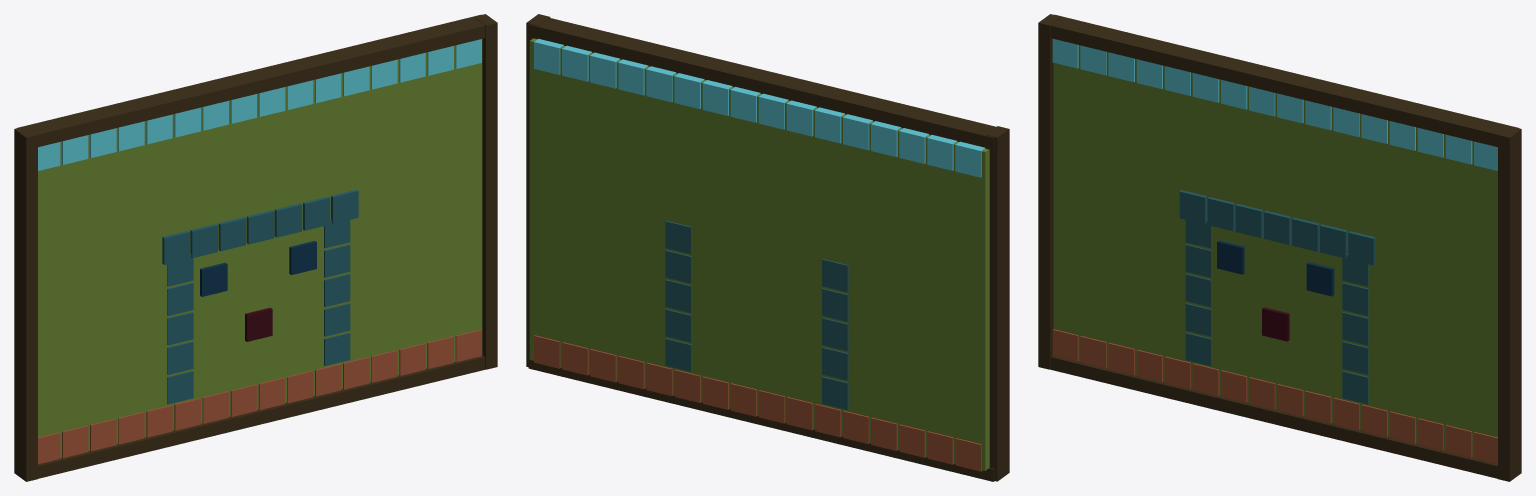
The model's file is Cuadro con dibujo.fbx.
3 views of the same model, side by side, from view 1: azimuth 30°, elevation 25°; view 2: azimuth 150°, elevation 25°; view 3: azimuth 330°, elevation 25° (orthographic).
Visible parts, largest first — view 1: Cuadro con dibujo; view 2: Cuadro con dibujo; view 3: Cuadro con dibujo.
Part boxes in pixels (<box>): Cuadro con dibujo: <box>14,14,497,481</box>; Cuadro con dibujo: <box>526,14,1009,481</box>; Cuadro con dibujo: <box>1038,14,1521,481</box>.
Bounding box in the file's own units: 211 × 147 × 13.53.
